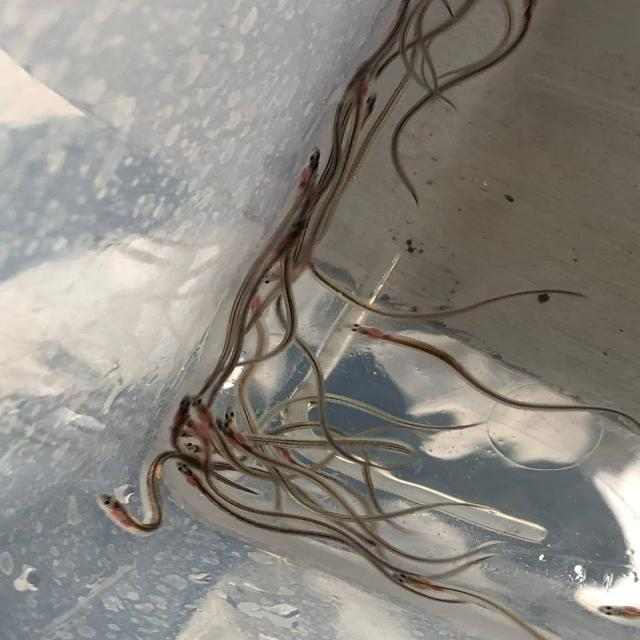glass_eel: (91, 491, 134, 525), (346, 63, 377, 109), (276, 213, 311, 248), (295, 146, 324, 188), (173, 460, 212, 490), (344, 319, 391, 343), (208, 418, 245, 448), (355, 90, 381, 126), (591, 601, 640, 620), (188, 394, 217, 424), (391, 571, 436, 590), (172, 396, 194, 430), (260, 262, 290, 284), (270, 442, 299, 462), (245, 291, 268, 316), (516, 0, 540, 23), (181, 416, 206, 436), (180, 437, 207, 455), (222, 406, 238, 425), (166, 426, 193, 436)
